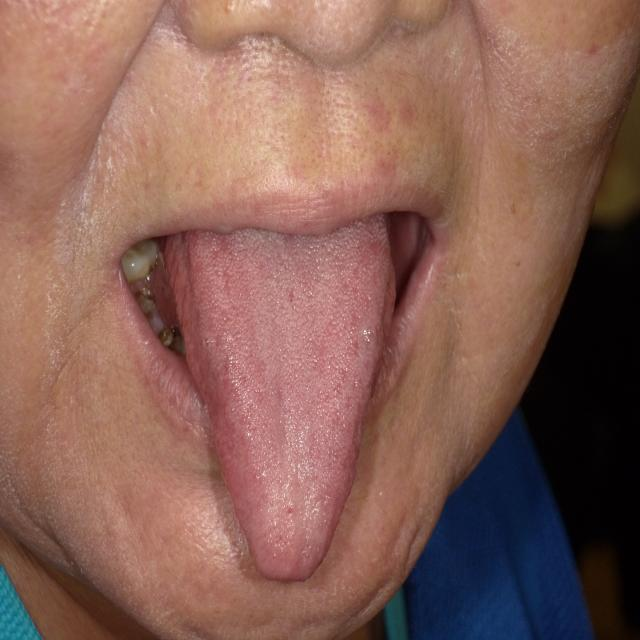baitaishe: (162, 212, 398, 582)
shoushe: (162, 212, 398, 582)
